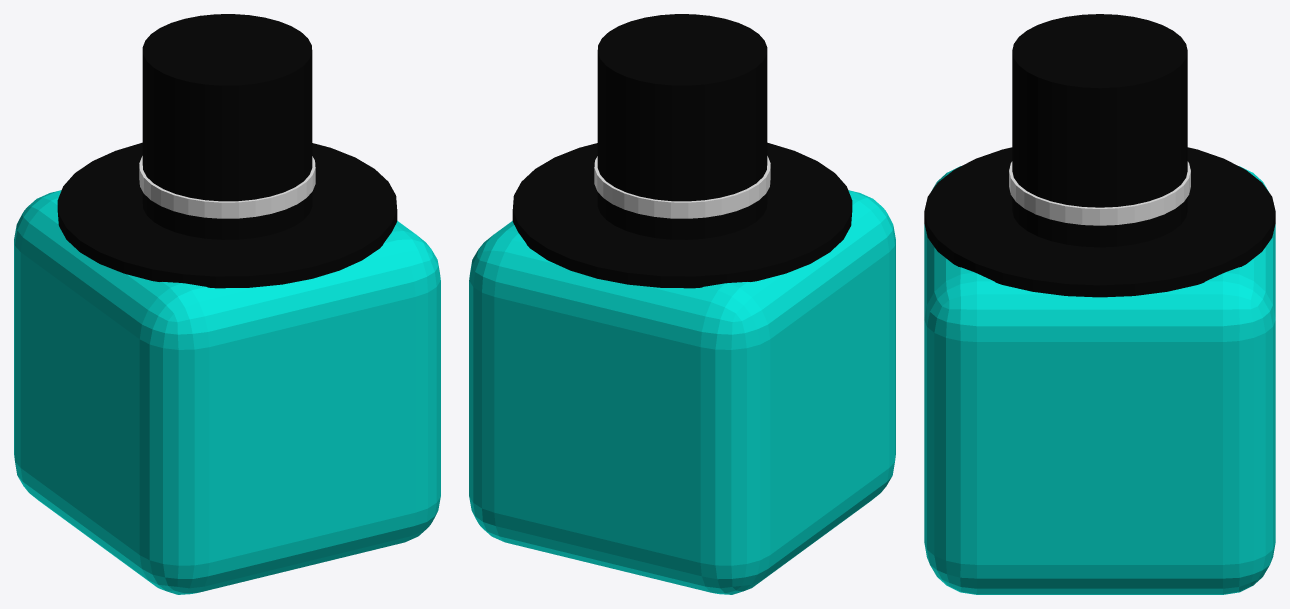
3 views of the same model, side by side, from view 1: azimuth 30°, elevation 25°; view 2: azimuth 150°, elevation 25°; view 3: azimuth 270°, elevation 25° (orthographic). The views are drawn at different scales.
Visible parts, largest first — view 1: Cube, Cylinder.001, Cylinder, Cylinder.002; view 2: Cube, Cylinder.001, Cylinder, Cylinder.002; view 3: Cube, Cylinder.001, Cylinder, Cylinder.002.
Part boxes in pixels (bbox=[...]): Cube: bbox=[14, 190, 440, 594]; Cylinder.001: bbox=[142, 14, 312, 239]; Cylinder: bbox=[57, 142, 397, 288]; Cylinder.002: bbox=[139, 156, 315, 218]; Cube: bbox=[469, 190, 895, 594]; Cylinder.001: bbox=[597, 14, 767, 239]; Cylinder: bbox=[512, 142, 852, 288]; Cylinder.002: bbox=[594, 156, 770, 218]; Cube: bbox=[924, 166, 1275, 594]; Cylinder.001: bbox=[1012, 14, 1187, 247]; Cylinder: bbox=[924, 147, 1275, 297]; Cylinder.002: bbox=[1009, 161, 1190, 225].
Bounding box in the file's own units: 2 × 3.06 × 2.
